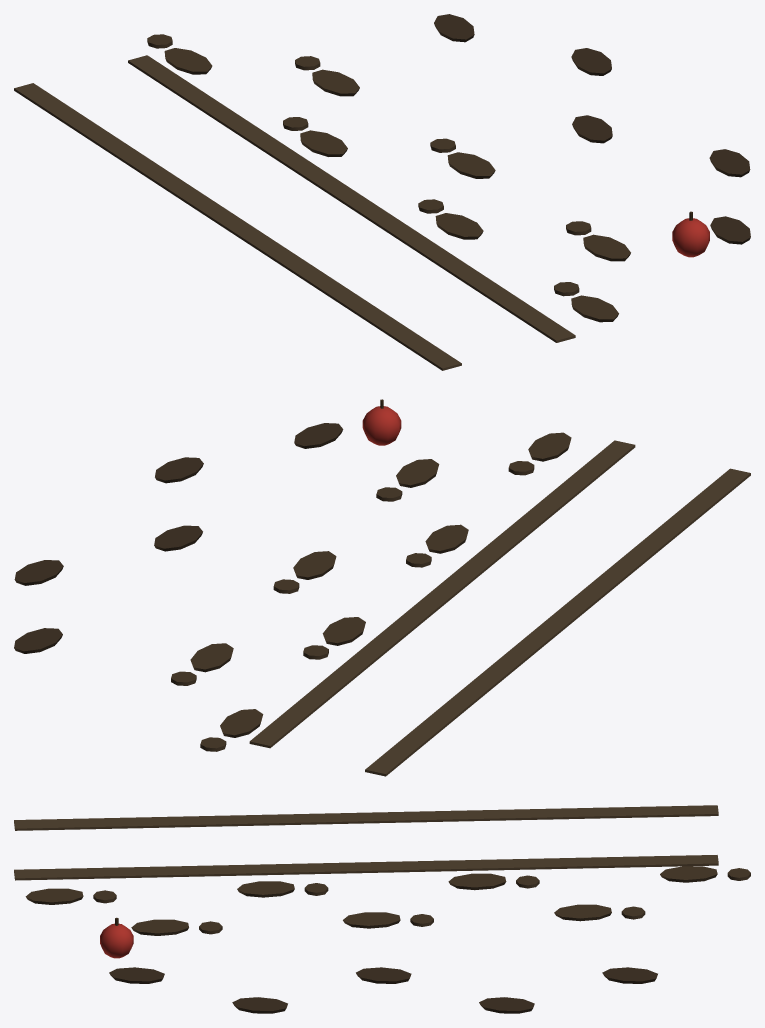
Rendered from spuren.glb.
3 views of the same model, one above another, from view 1: azimuth 30°, elevation 25°; view 2: azimuth 150°, elevation 25°; view 3: azimuth 270°, elevation 25° (orthographic). The views are drawn at different scales.
Visible parts, largest first — view 1: modell; view 2: modell; view 3: modell.
Boxes of the visible parts, x1,y1,x2,y2 form: modell: (14,14,750,370); modell: (14,399,750,776); modell: (14,805,750,1013).
Bounding box in the file's own units: 1.67 × 0.145 × 2.51.
2 materials, 1 textured.
